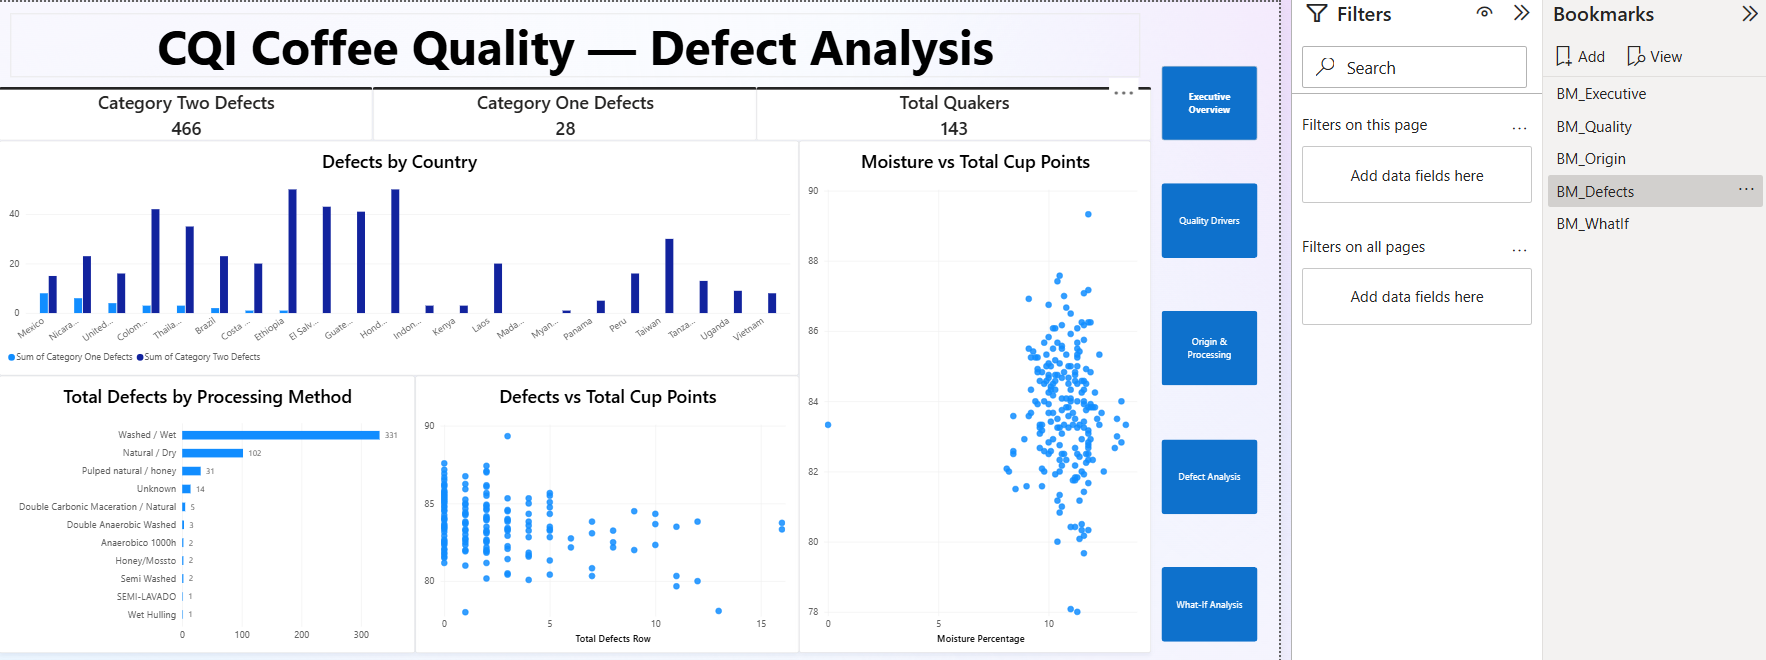

This screenshot's page, from the dashboard's own definition file:
{"tool":"powerbi","page":{"name":"Defect Analysis","canvas":[1920,1080],"ordinal":3},"visuals":[{"type":"cardVisual","fields":{"Data":["Sum(Coffee_Data.Category One Defects)"]},"box":[560,128,576,80],"z":0},{"type":"cardVisual","fields":{"Data":["Sum(Coffee_Data.Category Two Defects)"]},"box":[0,128,560,80],"z":1000},{"type":"cardVisual","fields":{"Data":["Sum(Coffee_Data.Quakers)"]},"box":[1136,128,592,80],"z":2000},{"type":"clusteredColumnChart","title":"Defects by Country","fields":{"Category":["Coffee_Data.Country of Origin"],"Y":["Sum(Coffee_Data.Category One Defects)","Sum(Coffee_Data.Category Two Defects)"]},"box":[0,208,1200,352],"z":3000},{"type":"scatterChart","title":"Defects vs Total Cup Points","fields":{"X":["Coffee_Data.Total Defects Row"],"Y":["Coffee_Data.Total Cup Points"]},"box":[624,560,576,416],"z":4000},{"type":"scatterChart","title":"Moisture vs Total Cup Points","fields":{"X":["Coffee_Data.Moisture Percentage"],"Y":["Coffee_Data.Total Cup Points"]},"box":[1200,208,528,768],"z":5000},{"type":"clusteredBarChart","title":"Total Defects by Processing Method","fields":{"Category":["Coffee_Data.Processing Method"],"Y":["Coffee_Data.Total Defects"]},"box":[0,560,624,416],"z":6000},{"type":"actionButton","box":[1744,848,144,112],"z":7000},{"type":"actionButton","box":[1744,656,144,112],"z":8000},{"type":"actionButton","box":[1744,464,144,112],"z":9000},{"type":"actionButton","box":[1744,272,144,112],"z":10000},{"type":"actionButton","box":[1744,96,144,112],"z":11000},{"type":"textbox","box":[16,16,1696,96],"z":12000}]}

Visuals, with their boxes on the page's 1920x1080 design canvas (x1, y1, x2, y2). These are canvas units, not pixel positions in the 1766x660 screenshot, which may show the page scaled, cropped or inside an application window:
cardVisual - Sum(Coffee_Data.Category One Defects): (560,128,1136,208)
cardVisual - Sum(Coffee_Data.Category Two Defects): (0,128,560,208)
cardVisual - Sum(Coffee_Data.Quakers): (1136,128,1728,208)
"Defects by Country" clusteredColumnChart: (0,208,1200,560)
"Defects vs Total Cup Points" scatterChart: (624,560,1200,976)
"Moisture vs Total Cup Points" scatterChart: (1200,208,1728,976)
"Total Defects by Processing Method" clusteredBarChart: (0,560,624,976)
actionButton: (1744,848,1888,960)
actionButton: (1744,656,1888,768)
actionButton: (1744,464,1888,576)
actionButton: (1744,272,1888,384)
actionButton: (1744,96,1888,208)
textbox: (16,16,1712,112)
